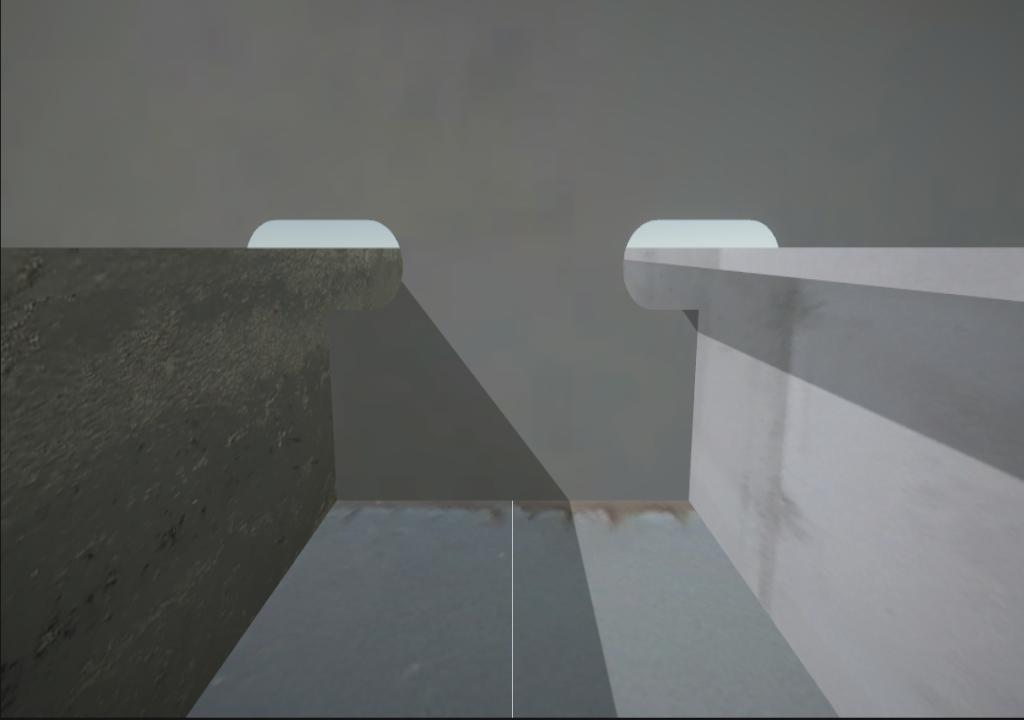fillet_yong_jeop_jang: (330, 487, 703, 518)
longi_yong_jeop_jang: (314, 300, 358, 514), (682, 301, 712, 519)
